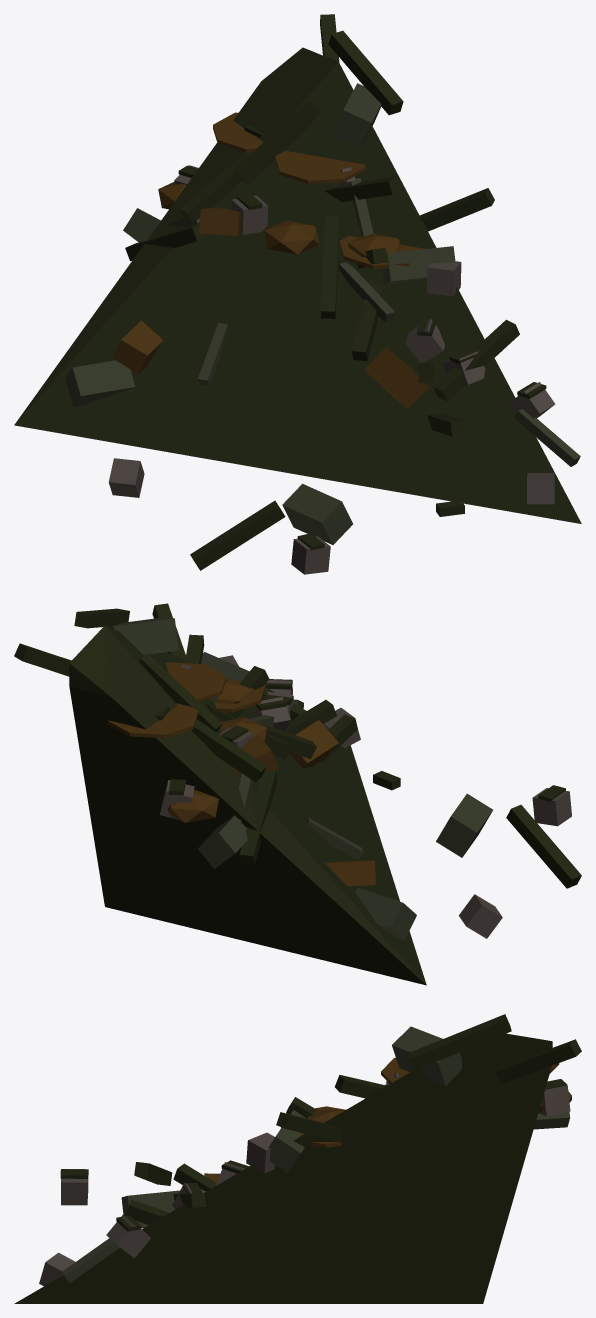
File: SM_PilaZombi_RemateIzq_Altura5_s2_LOD0.fbx
3 views of the same model, one above another, from view 1: azimuth 30°, elevation 25°; view 2: azimuth 150°, elevation 25°; view 3: azimuth 270°, elevation 25° (orthographic). The views are drawn at different scales.
Parts seen in each view (by area): view 1: SM_pila_zombis_v14_LOD0; view 2: SM_pila_zombis_v14_LOD0; view 3: SM_pila_zombis_v14_LOD0.
Part boxes in pixels (left/top/right/bottom): SM_pila_zombis_v14_LOD0: left=14, top=14, right=581, bottom=574; SM_pila_zombis_v14_LOD0: left=14, top=603, right=581, bottom=985; SM_pila_zombis_v14_LOD0: left=14, top=1014, right=581, bottom=1303.
Bounding box in the file's own units: 3.35 × 2.78 × 4.51.
